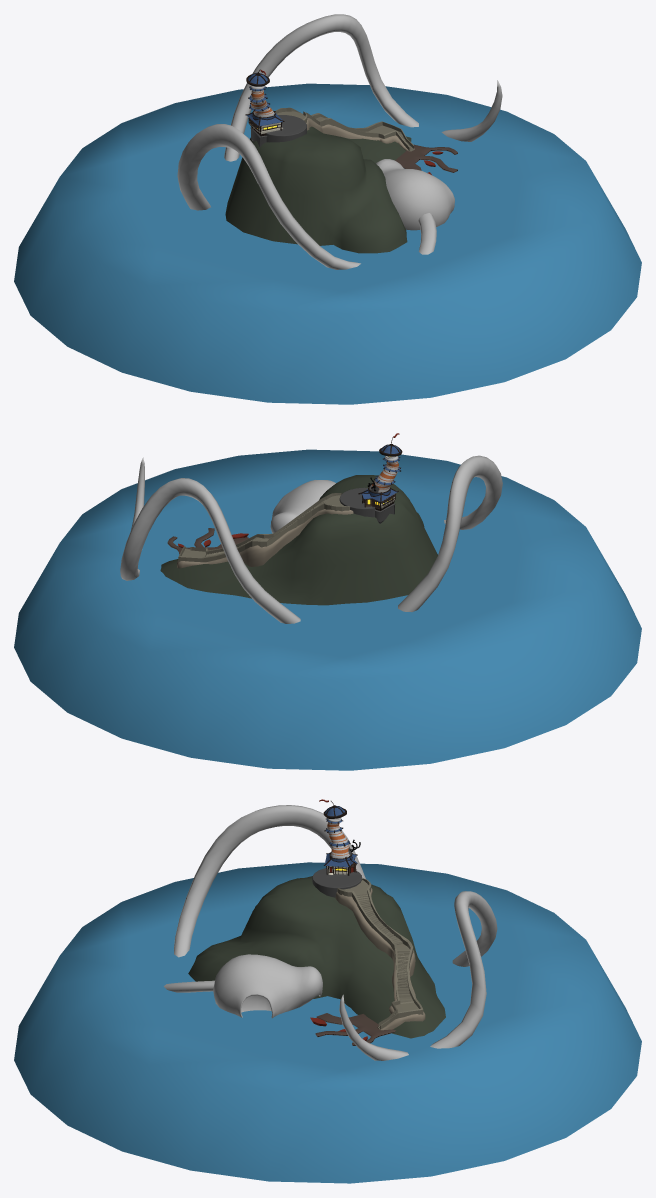
The picture shows the model from 3 angles, top to bottom: view 1: azimuth 30°, elevation 25°; view 2: azimuth 150°, elevation 25°; view 3: azimuth 270°, elevation 25°; orthographic projection.
Parts seen in each view (by area): view 1: pDisc1, ground_plane, Spine1_GEO, spine2_GEO, polySurface2, ground_stair_railing, tail_GEO, ground_pier, lighthouse_0004:lighthouse_court, ground_stair_foundation, polySurface1; view 2: pDisc1, ground_plane, spine2_GEO, Spine1_GEO, ground_stair_railing, polySurface2, ground_stair_foundation, lighthouse_0004:lighthouse_court; view 3: pDisc1, ground_plane, polySurface2, Spine1_GEO, spine2_GEO, ground_stair_railing, ground_stair, ground_stair_foundation, tail_GEO, ground_pier, lighthouse_0004:lighthouse_court.
Part boxes in pixels (left/top/right/bottom): pDisc1: left=14, top=83, right=641, bottom=404; ground_plane: left=225, top=126, right=411, bottom=253; Spine1_GEO: left=177, top=124, right=360, bottom=269; spine2_GEO: left=224, top=14, right=418, bottom=161; polySurface2: left=376, top=159, right=454, bottom=230; ground_stair_railing: left=275, top=107, right=413, bottom=150; tail_GEO: left=441, top=80, right=502, bottom=141; ground_pier: left=395, top=144, right=457, bottom=172; lighthouse_0004:lighthouse_court: left=266, top=115, right=306, bottom=142; ground_stair_foundation: left=306, top=118, right=414, bottom=151; polySurface1: left=418, top=213, right=436, bottom=254; pDisc1: left=14, top=449, right=641, bottom=770; ground_plane: left=160, top=475, right=437, bottom=605; spine2_GEO: left=120, top=478, right=300, bottom=623; Spine1_GEO: left=398, top=455, right=502, bottom=612; ground_stair_railing: left=178, top=493, right=349, bottom=562; polySurface2: left=270, top=480, right=335, bottom=533; ground_stair_foundation: left=177, top=509, right=353, bottom=568; lighthouse_0004:lighthouse_court: left=339, top=487, right=375, bottom=517; pDisc1: left=14, top=862, right=641, bottom=1183; ground_plane: left=188, top=876, right=445, bottom=1038; polySurface2: left=213, top=954, right=322, bottom=1018; Spine1_GEO: left=174, top=805, right=365, bottom=957; spine2_GEO: left=430, top=891, right=497, bottom=1048; ground_stair_railing: left=337, top=878, right=423, bottom=1029; ground_stair: left=343, top=880, right=418, bottom=1028; ground_stair_foundation: left=335, top=888, right=425, bottom=1030; tail_GEO: left=339, top=994, right=408, bottom=1060; ground_pier: left=315, top=1013, right=395, bottom=1045; lighthouse_0004:lighthouse_court: left=312, top=868, right=362, bottom=897.
Size of the model in its own units: 24.69 by 9.5 by 24.69.
